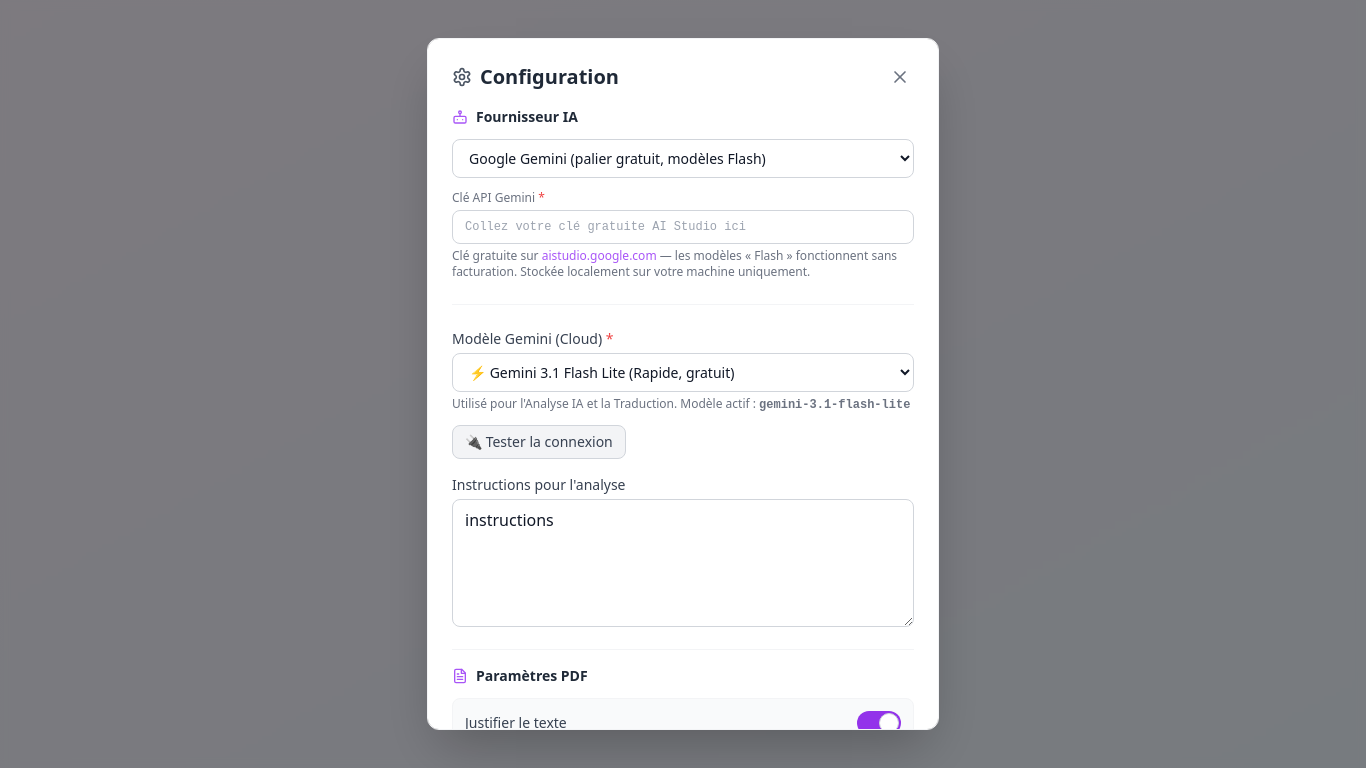
SettingsModal › displays the connection test error on failure
Click the button "🔌 Tester la connexion". click: (539, 442)
box: [452, 425, 626, 459]
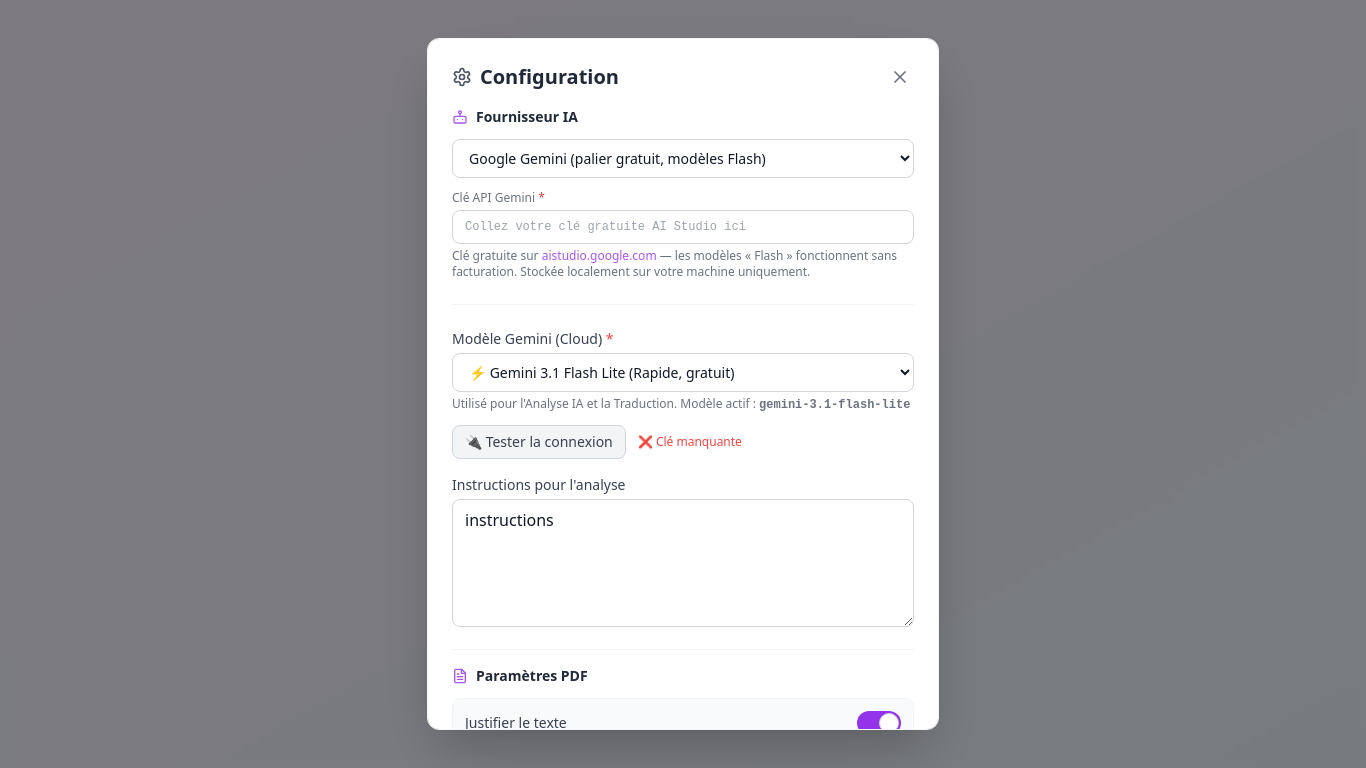
Expected: the text "❌ Clé manquante" is shown, [638, 434, 742, 450]
